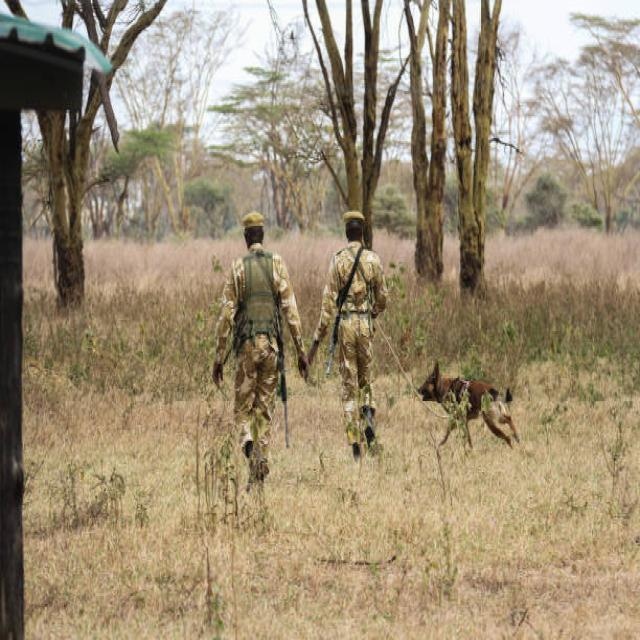dog: (425, 334, 529, 464)
ranger: (218, 173, 322, 503), (336, 183, 408, 469)
weapon: (264, 310, 298, 549), (311, 280, 345, 444)
